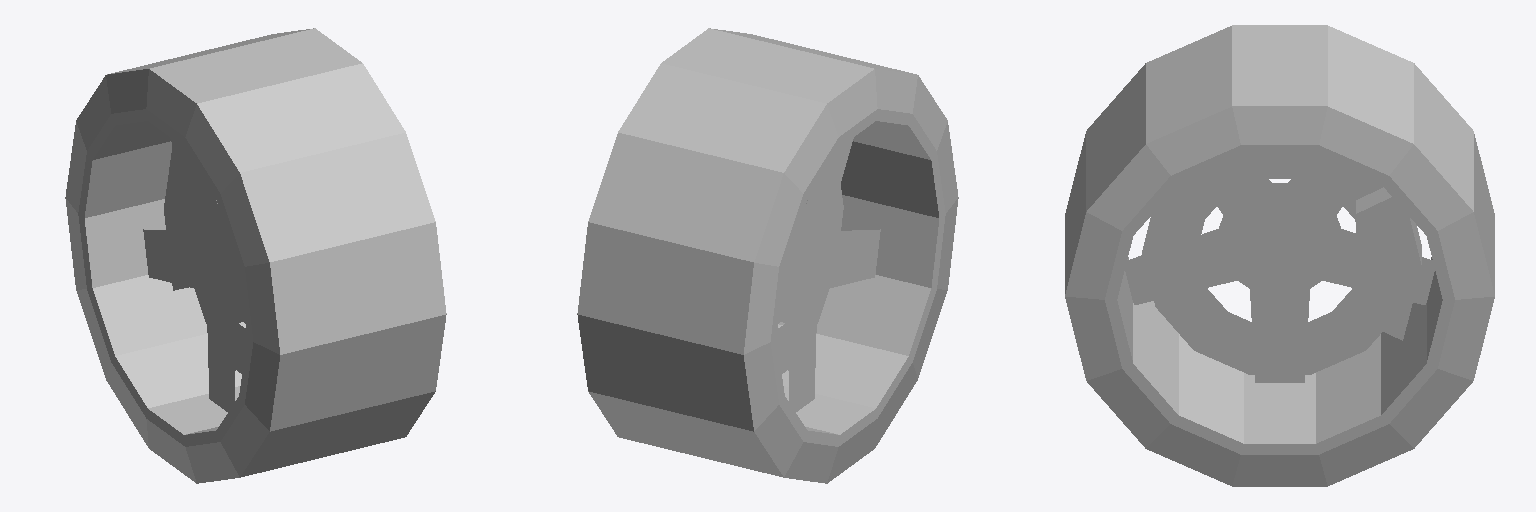
Rendered from Wheel_01.obj.
3 views of the same model, side by side, from view 1: azimuth 30°, elevation 25°; view 2: azimuth 150°, elevation 25°; view 3: azimuth 270°, elevation 25° (orthographic).
Parts seen in each view (by area): view 1: TIRE_Cylinder.015, RIM_OUTER_Cylinder.013, RIM_INNER_Cylinder.016, BRAKE_CALIPER_Cylinder.014, BRAKE_DISK_Cylinder.017; view 2: TIRE_Cylinder.015, RIM_OUTER_Cylinder.013, RIM_INNER_Cylinder.016, BRAKE_DISK_Cylinder.017; view 3: TIRE_Cylinder.015, RIM_OUTER_Cylinder.013, BRAKE_DISK_Cylinder.017, RIM_INNER_Cylinder.016, BRAKE_CALIPER_Cylinder.014.
Boxes of the visible parts, box(x1,y1,x2,y2) form: TIRE_Cylinder.015: box(65, 28, 446, 483); RIM_OUTER_Cylinder.013: box(78, 109, 252, 446); RIM_INNER_Cylinder.016: box(143, 138, 245, 411); BRAKE_CALIPER_Cylinder.014: box(164, 146, 217, 290); BRAKE_DISK_Cylinder.017: box(195, 289, 246, 373); TIRE_Cylinder.015: box(577, 28, 958, 483); RIM_OUTER_Cylinder.013: box(771, 109, 945, 446); RIM_INNER_Cylinder.016: box(778, 138, 880, 411); BRAKE_DISK_Cylinder.017: box(777, 185, 843, 373); TIRE_Cylinder.015: box(1065, 25, 1494, 486); RIM_OUTER_Cylinder.013: box(1105, 145, 1454, 454); BRAKE_DISK_Cylinder.017: box(1142, 156, 1382, 374); RIM_INNER_Cylinder.016: box(1125, 179, 1434, 382); BRAKE_CALIPER_Cylinder.014: box(1356, 187, 1421, 340).
Size of the model in its own units: 0.4838 by 0.975 by 1.